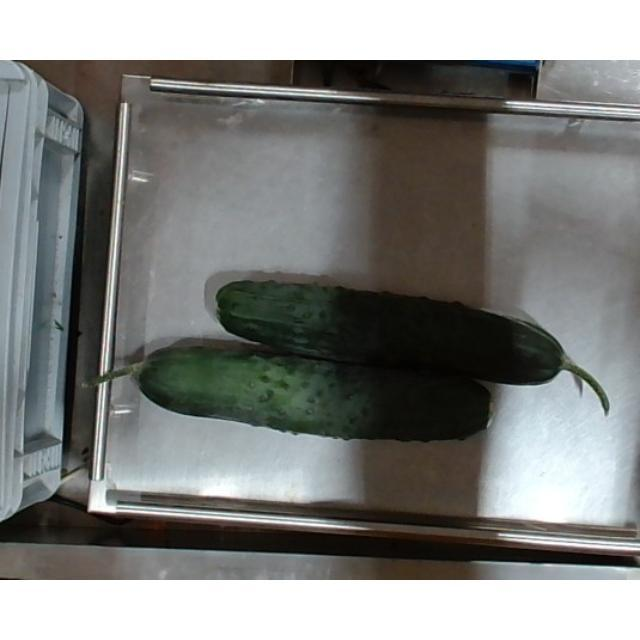cucumber: (212, 274, 612, 424), (112, 341, 494, 445)
